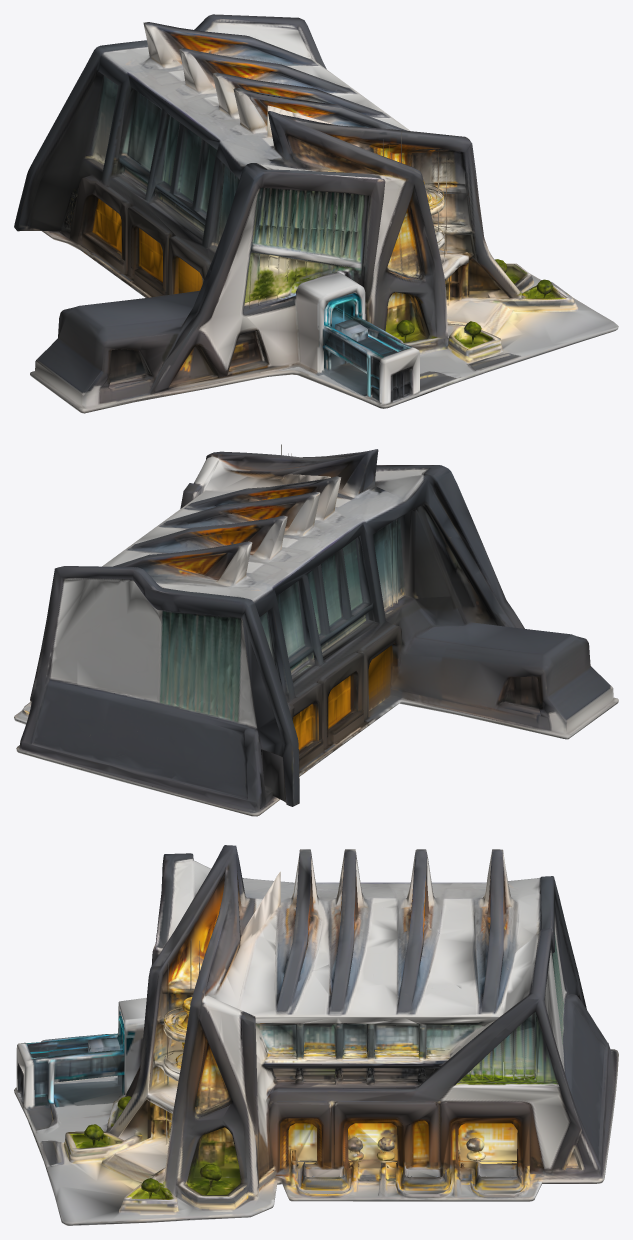
Rendered from passiona-ai-workshop-gateway.glb.
The picture shows the model from 3 angles, top to bottom: view 1: azimuth 30°, elevation 25°; view 2: azimuth 150°, elevation 25°; view 3: azimuth 270°, elevation 25°; orthographic projection. The views are drawn at different scales.
Visible parts, largest first — view 1: passiona-workshop-gateway-oriented; view 2: passiona-workshop-gateway-oriented; view 3: passiona-workshop-gateway-oriented.
Part boxes in pixels (x1,y1,x2,y2): passiona-workshop-gateway-oriented: (14,14,618,413); passiona-workshop-gateway-oriented: (14,444,618,816); passiona-workshop-gateway-oriented: (14,845,618,1225).
Bounding box in the file's own units: 0.878 × 0.385 × 0.8783.
1 material, 1 textured.
